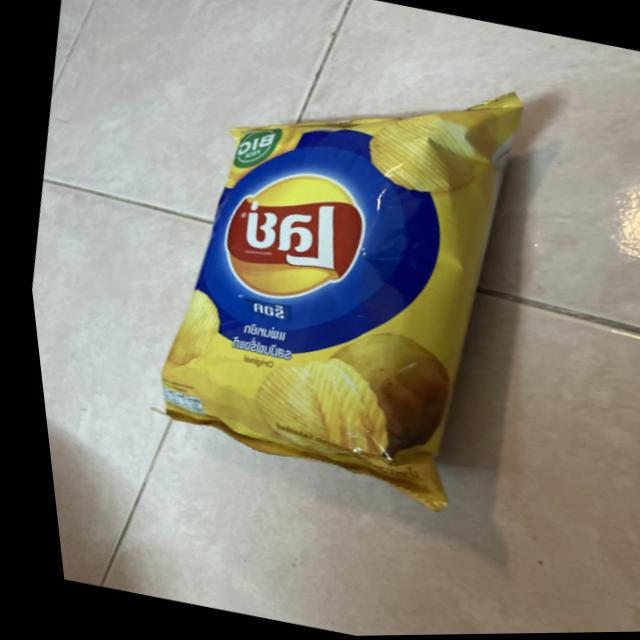LayYellow: (104, 29, 581, 571)
